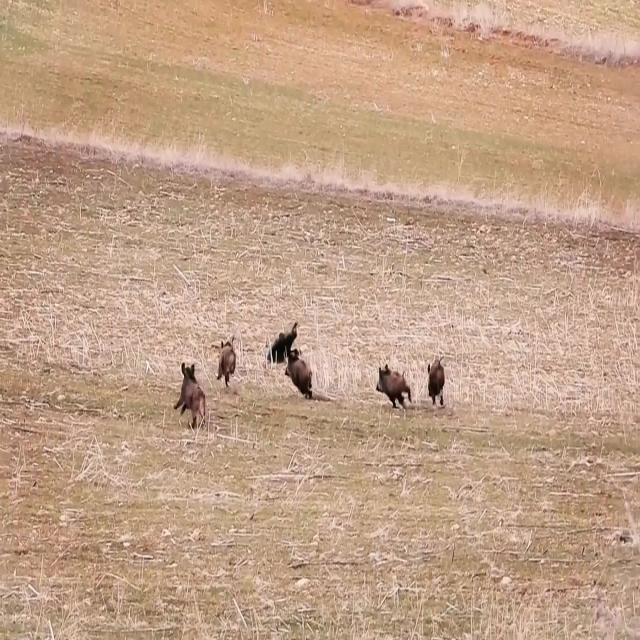pig: (172, 347, 222, 441), (206, 314, 242, 386), (409, 339, 445, 409), (366, 341, 402, 400), (282, 341, 308, 400), (262, 308, 288, 343)
